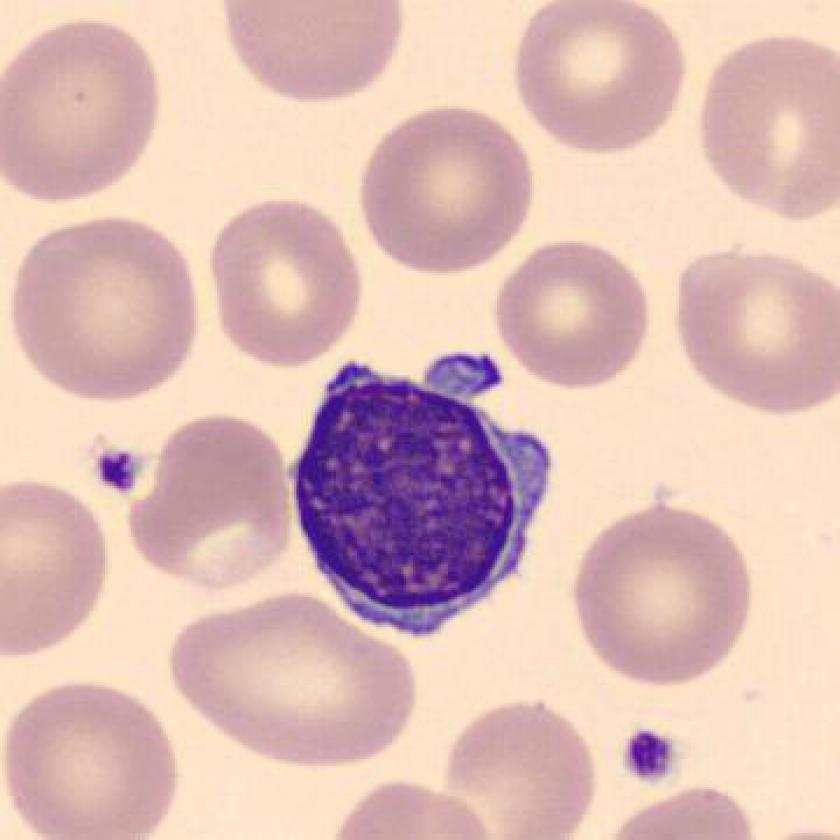lymphocyte: (281, 346, 566, 649)
